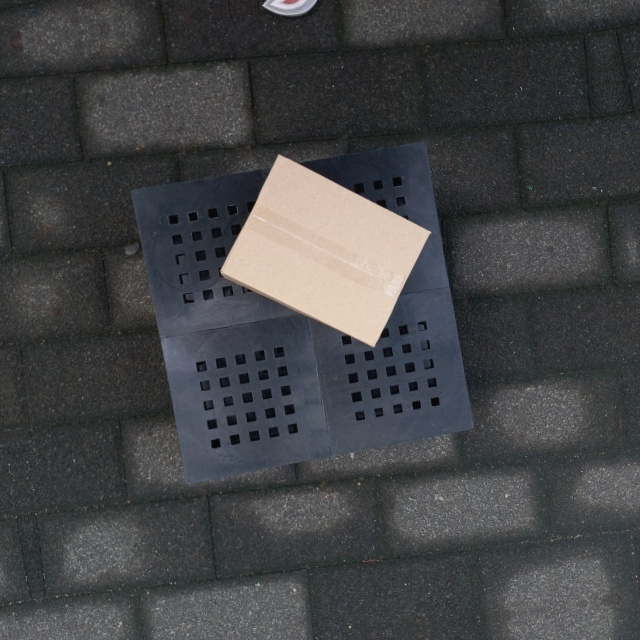box: (221, 150, 433, 351)
pallet: (125, 128, 486, 493)
